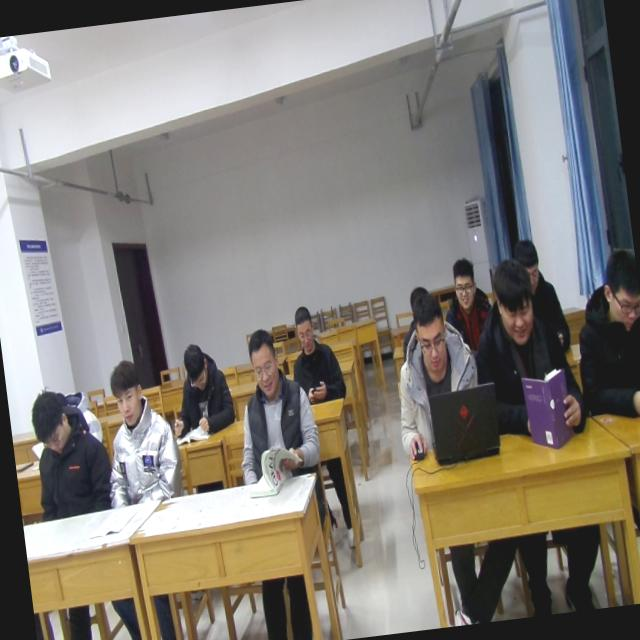down: (488, 252, 544, 352), (591, 231, 640, 340), (404, 287, 454, 379), (240, 324, 287, 402), (24, 387, 74, 456), (177, 337, 210, 395), (512, 228, 544, 284), (287, 298, 319, 353)
lookup: (101, 353, 147, 426), (442, 254, 481, 310)
sit: (462, 247, 589, 443), (384, 290, 490, 464), (223, 320, 325, 487), (92, 356, 184, 514), (26, 380, 116, 525), (568, 248, 640, 425), (437, 251, 505, 376), (508, 234, 573, 358), (162, 336, 238, 442), (283, 302, 348, 406)
